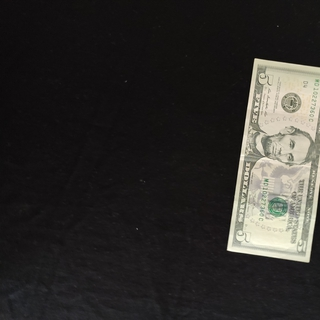5USDFront: (227, 58, 320, 264)
